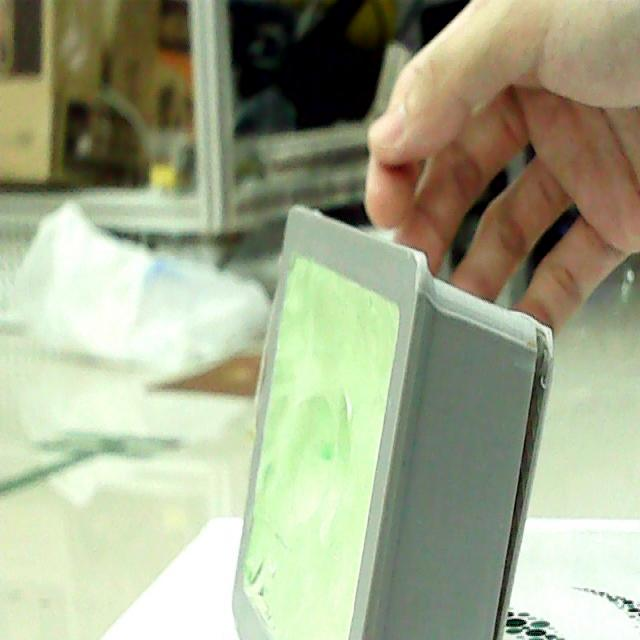block: (223, 199, 542, 636)
